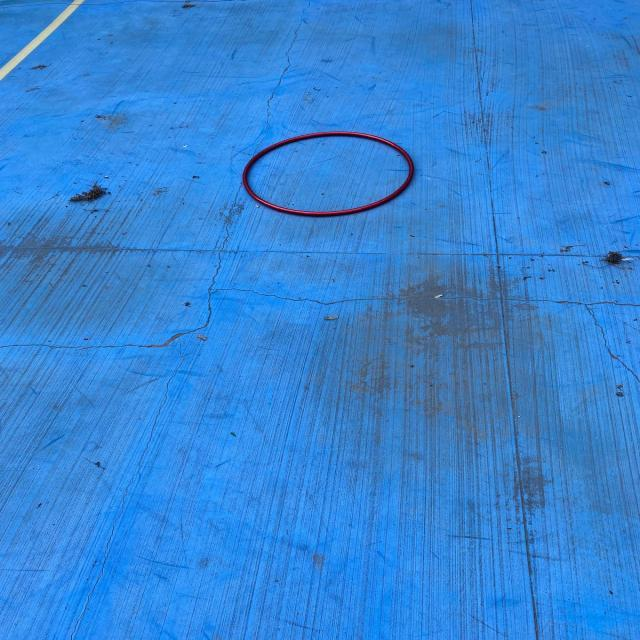Circle: (242, 129, 416, 218)
